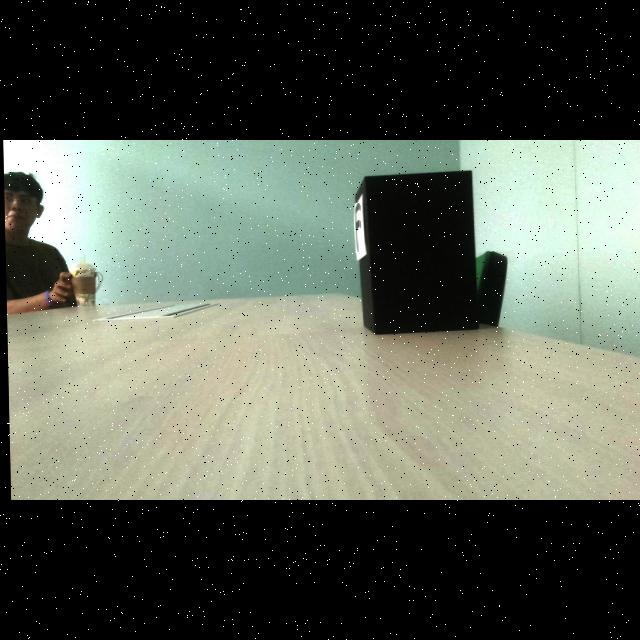F: (354, 203, 359, 253)
